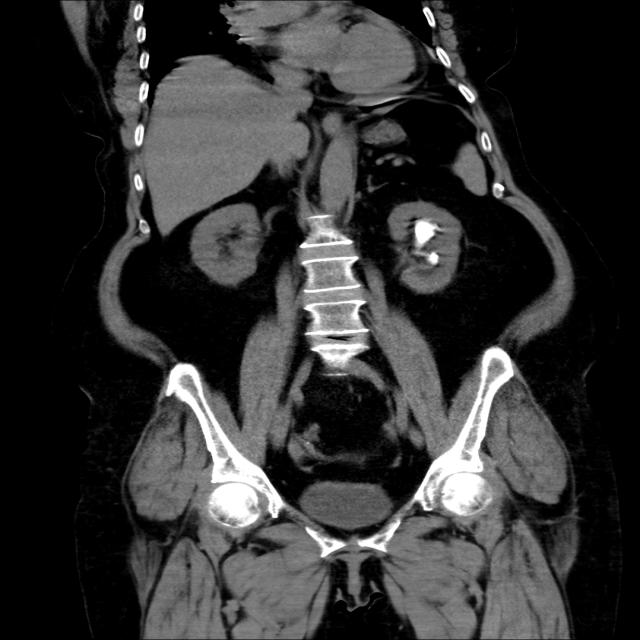kidneystone: (415, 219, 437, 248), (428, 252, 440, 266)
